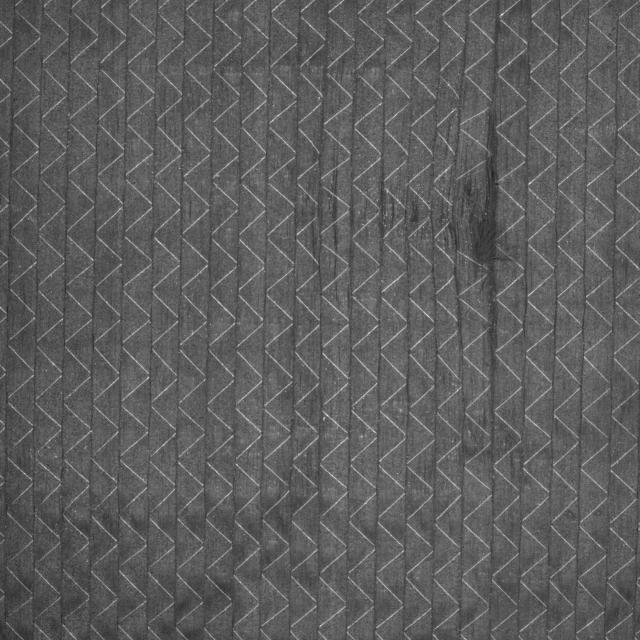carbon-fibre-defect: (435, 115, 511, 274), (322, 137, 356, 303), (294, 186, 324, 265), (408, 179, 439, 247), (381, 183, 411, 247), (380, 183, 408, 246)
